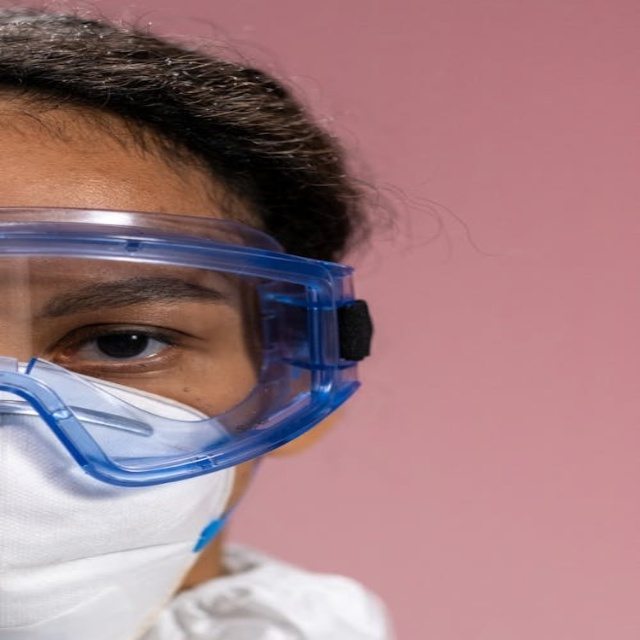Gafas: (0, 206, 374, 489)
Mascara: (1, 348, 248, 639)
